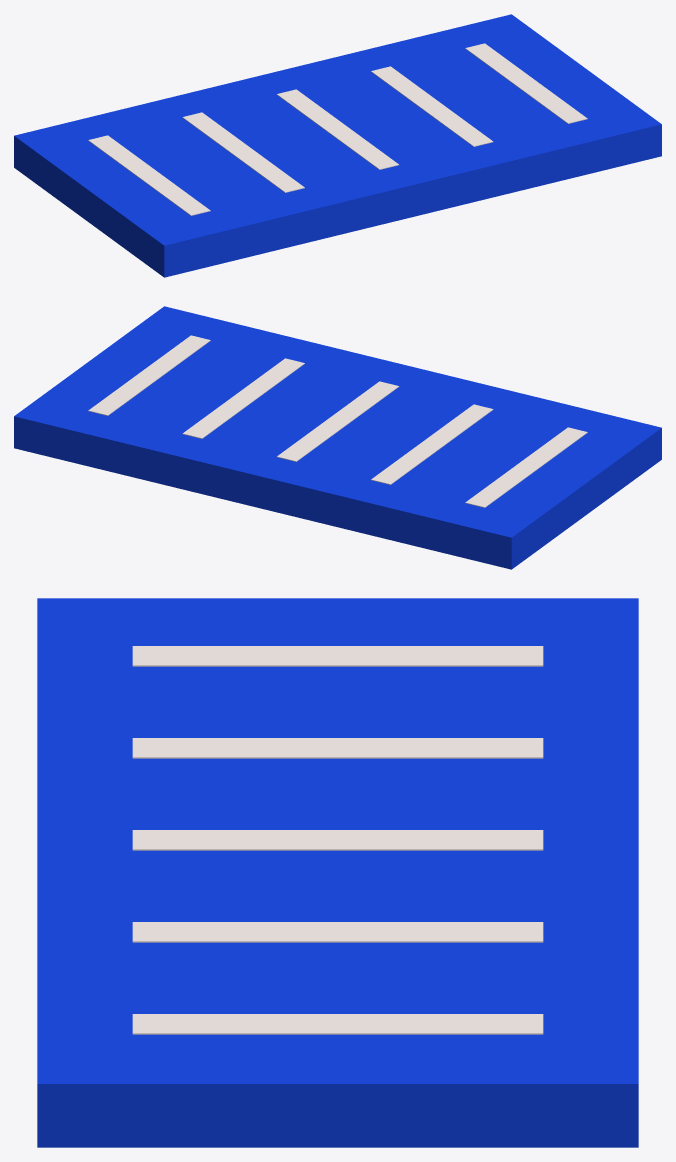
File: duong di bo.FBX
3 renders of one model, top to bottom at view 1: azimuth 30°, elevation 25°; view 2: azimuth 150°, elevation 25°; view 3: azimuth 270°, elevation 25°, orthographic. The views are drawn at different scales.
Parts seen in each view (by area): view 1: Box1898; view 2: Box1898; view 3: Box1898.
Part boxes in pixels (<box>): Box1898: <box>14,14,661,277</box>; Box1898: <box>14,306,661,569</box>; Box1898: <box>37,598,638,1147</box>.
Size of the model in its own units: 14.22 by 0.892 by 7.44.
